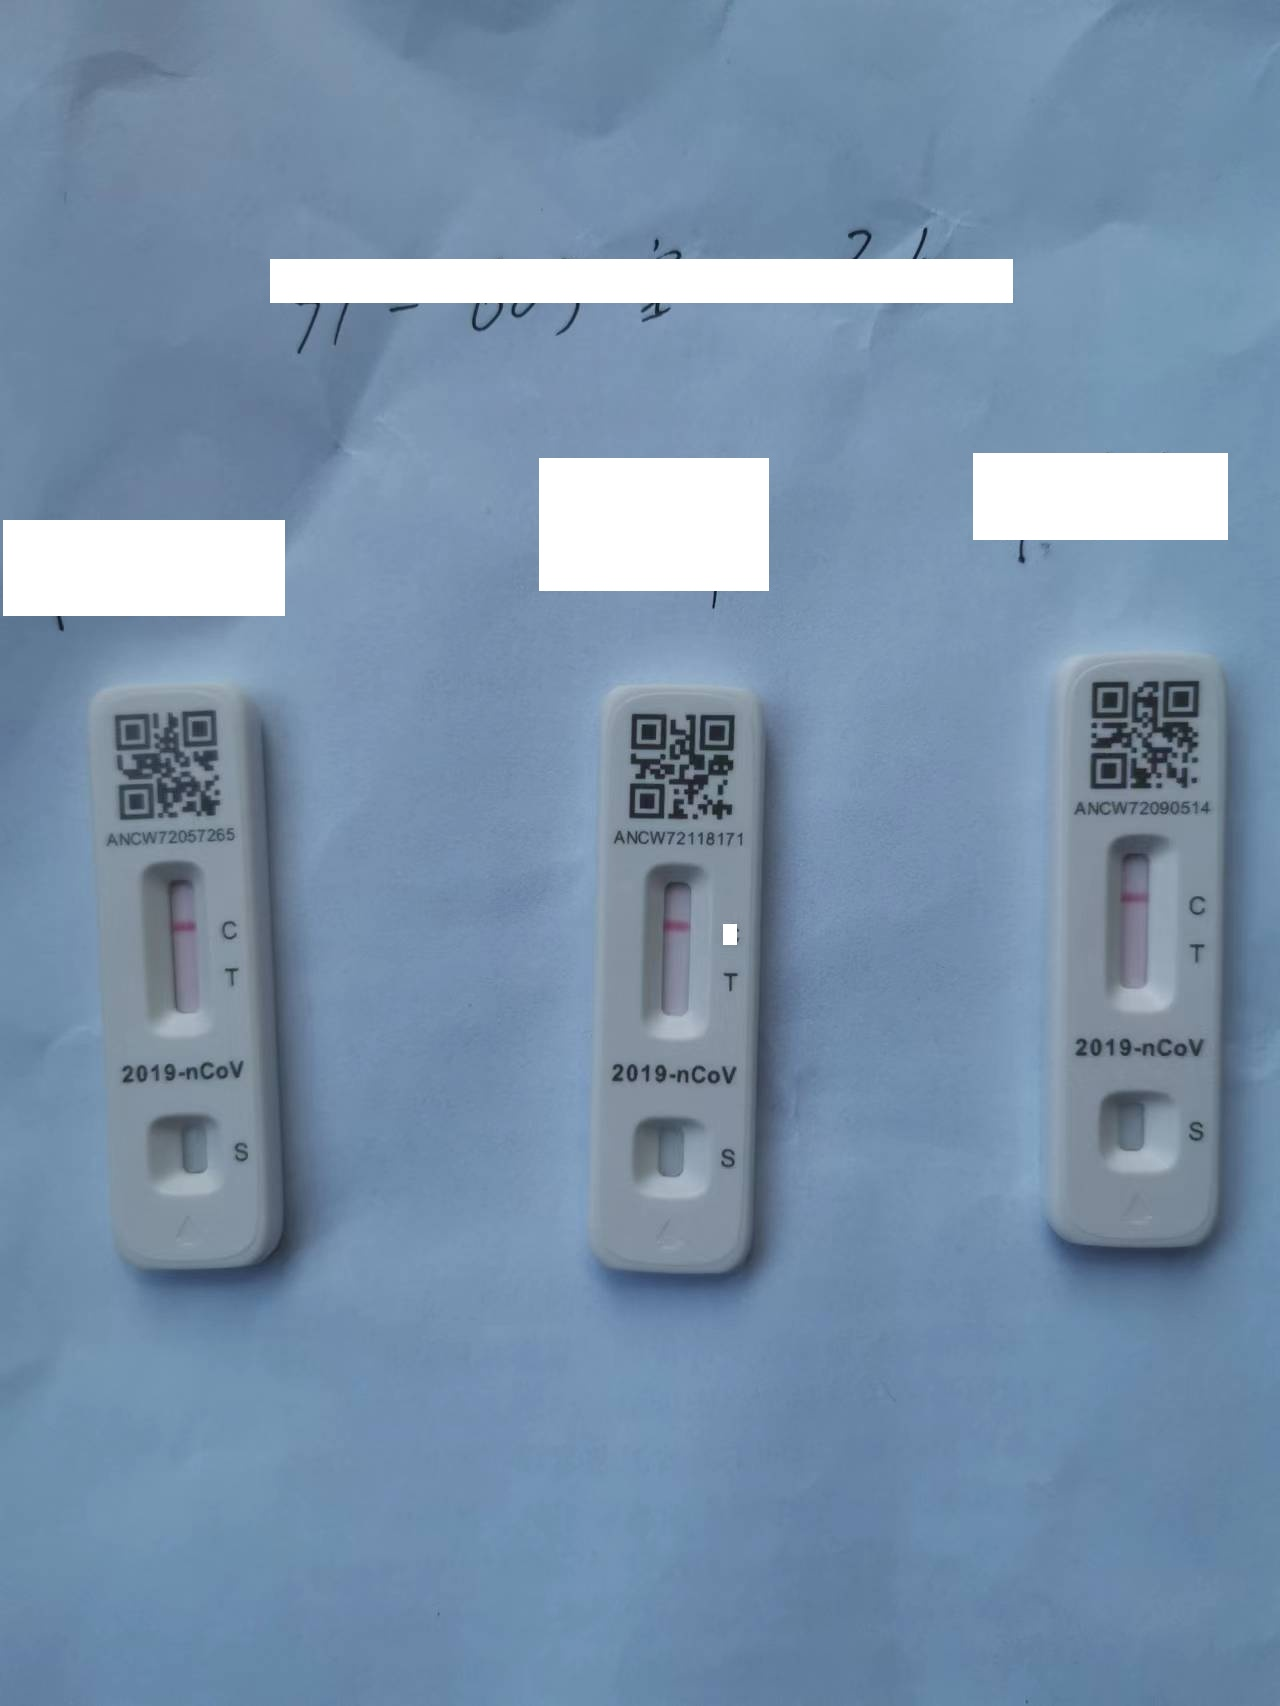negative: (1103, 834, 1172, 1010), (138, 862, 208, 1030), (641, 860, 707, 1032)
